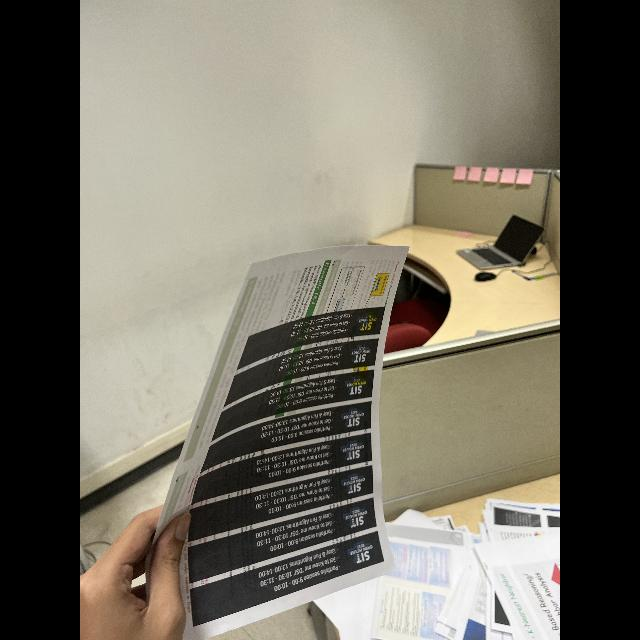reuseable_paper: (141, 242, 415, 640), (316, 502, 560, 640)
